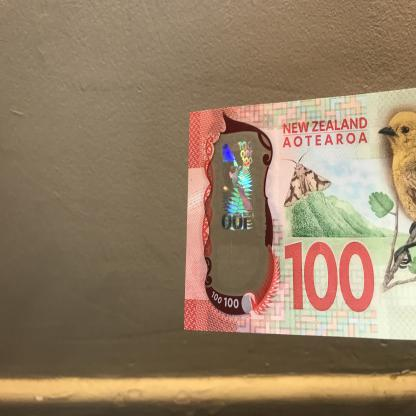100B: (215, 138, 261, 291)
